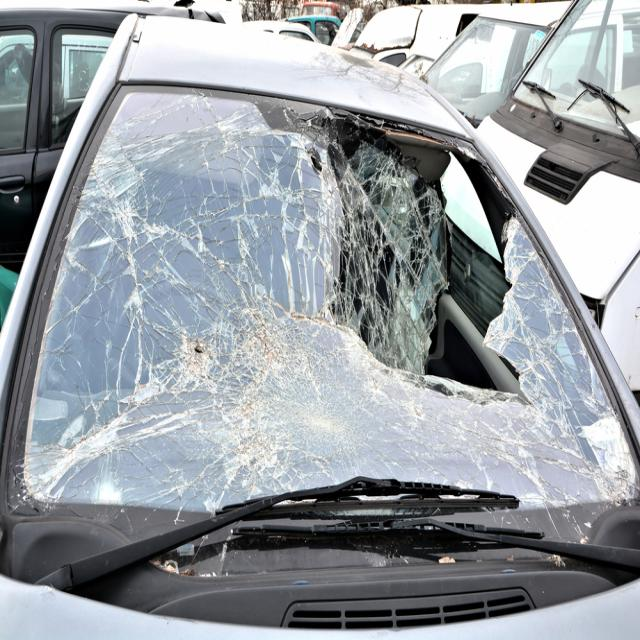Windshield: (117, 88, 623, 513)
